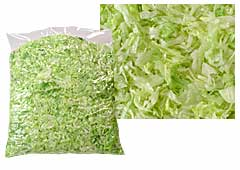chopped lettuce: (137, 14, 225, 115), (23, 55, 102, 153)
